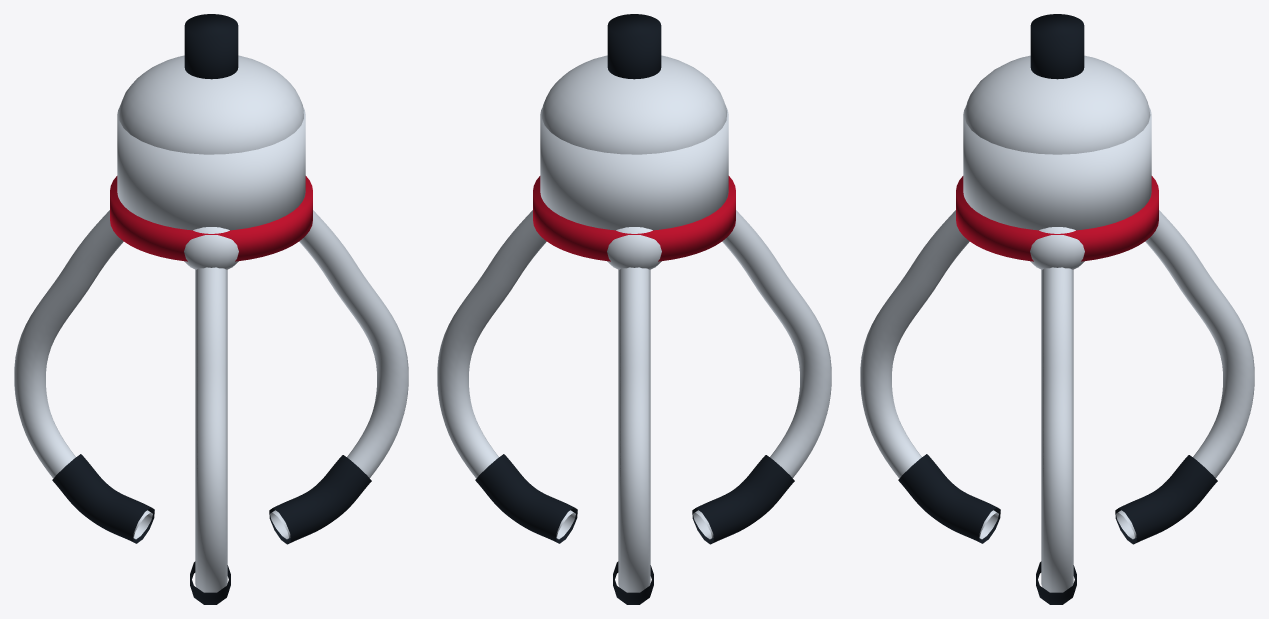
The model's file is claw.glb.
3 renders of one model, left to right at view 1: azimuth 30°, elevation 25°; view 2: azimuth 150°, elevation 25°; view 3: azimuth 270°, elevation 25°, orthographic.
Visible parts, largest first — view 1: Claw shoulder, Claw dome, Finger steel_2, Finger steel_0, Finger steel_1, Claw coral ring, Rubber grip_1, Rubber grip_0, Cable socket, Finger joint_2, Rubber grip_2; view 2: Claw shoulder, Claw dome, Finger steel_1, Finger steel_2, Finger steel_0, Claw coral ring, Rubber grip_0, Rubber grip_2, Cable socket, Finger joint_1, Rubber grip_1; view 3: Claw shoulder, Claw dome, Finger steel_0, Finger steel_1, Finger steel_2, Claw coral ring, Rubber grip_2, Rubber grip_1, Cable socket, Finger joint_0, Rubber grip_0.
Boxes of the visible parts, bbox=[...] form: Claw shoulder: bbox=[117, 106, 305, 230]; Claw dome: bbox=[119, 55, 303, 154]; Finger steel_2: bbox=[195, 267, 227, 592]; Finger steel_0: bbox=[270, 210, 408, 539]; Finger steel_1: bbox=[14, 210, 152, 539]; Claw coral ring: bbox=[110, 176, 312, 261]; Rubber grip_1: bbox=[52, 454, 154, 543]; Rubber grip_0: bbox=[269, 455, 371, 544]; Cable socket: bbox=[184, 14, 238, 79]; Finger joint_2: bbox=[184, 227, 238, 269]; Rubber grip_2: bbox=[190, 561, 230, 604]; Claw shoulder: bbox=[540, 106, 728, 230]; Claw dome: bbox=[542, 55, 726, 154]; Finger steel_1: bbox=[618, 267, 650, 592]; Finger steel_2: bbox=[693, 210, 831, 539]; Finger steel_0: bbox=[437, 210, 575, 539]; Claw coral ring: bbox=[533, 176, 735, 261]; Rubber grip_0: bbox=[475, 454, 577, 543]; Rubber grip_2: bbox=[692, 455, 794, 544]; Cable socket: bbox=[607, 14, 661, 79]; Finger joint_1: bbox=[607, 227, 661, 269]; Rubber grip_1: bbox=[613, 561, 653, 604]; Claw shoulder: bbox=[963, 106, 1151, 230]; Claw dome: bbox=[964, 55, 1150, 154]; Finger steel_0: bbox=[1041, 267, 1073, 592]; Finger steel_1: bbox=[1116, 210, 1254, 539]; Finger steel_2: bbox=[860, 210, 998, 539]; Claw coral ring: bbox=[956, 176, 1158, 261]; Rubber grip_2: bbox=[898, 454, 1000, 543]; Rubber grip_1: bbox=[1115, 455, 1217, 544]; Cable socket: bbox=[1030, 14, 1084, 79]; Finger joint_0: bbox=[1030, 227, 1084, 269]; Rubber grip_0: bbox=[1036, 561, 1076, 604].
Bounding box in the file's own units: 0.6604 × 1.13 × 0.7536.
